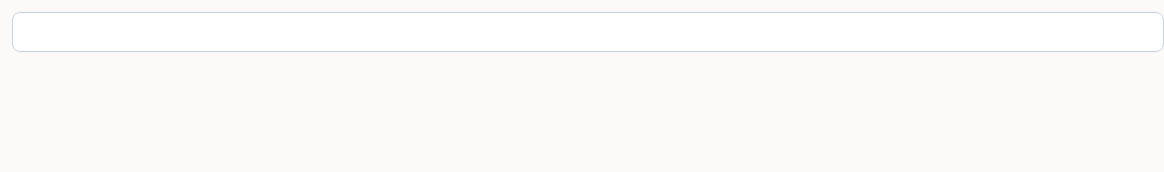
Scenario: CarSearchAutocomplete › Selection › CAR-U-013: selects custom value when clicking custom option
The width and height of the screenshot is (1164, 172).
Later steps or results of the test are not shown.
Type "Custom Car" into the dropdown at (588,32), box left=12, top=12, right=1163, bottom=52
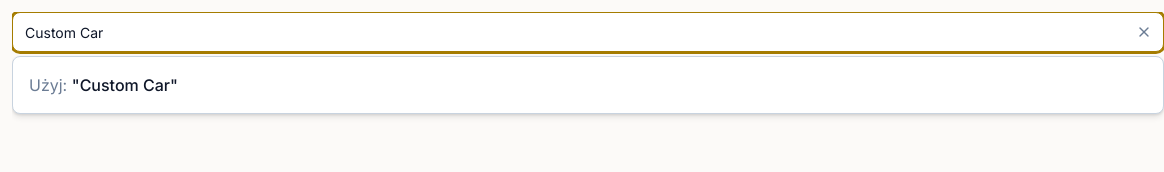
Expected: the option "Użyj: \"Custom Car\"" is shown, left=13, top=57, right=1163, bottom=113
